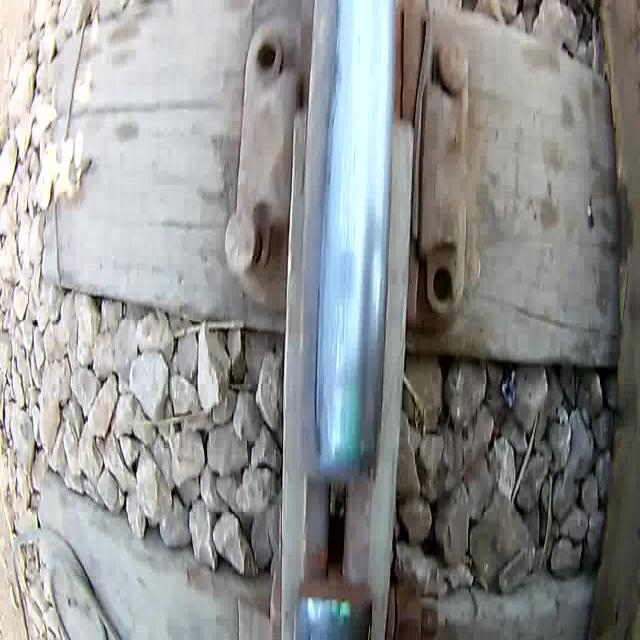Joint: (281, 419, 392, 640)
